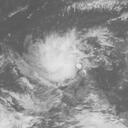cyclone: (27, 28, 93, 92)
